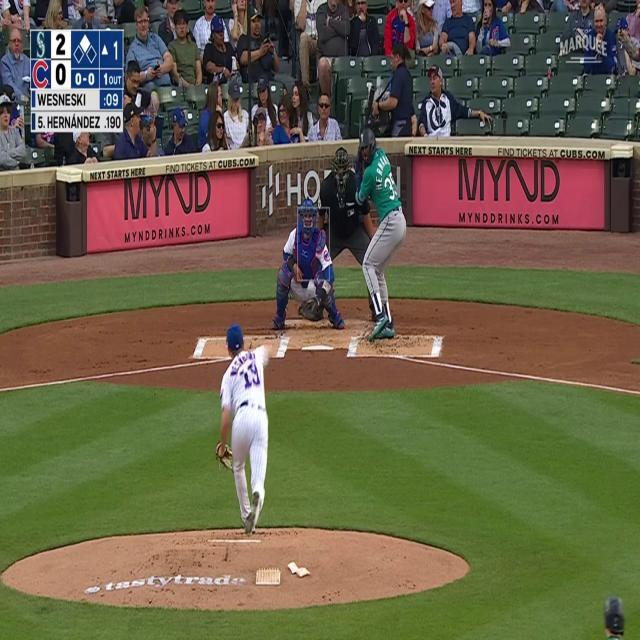baseball: (307, 279, 314, 292)
